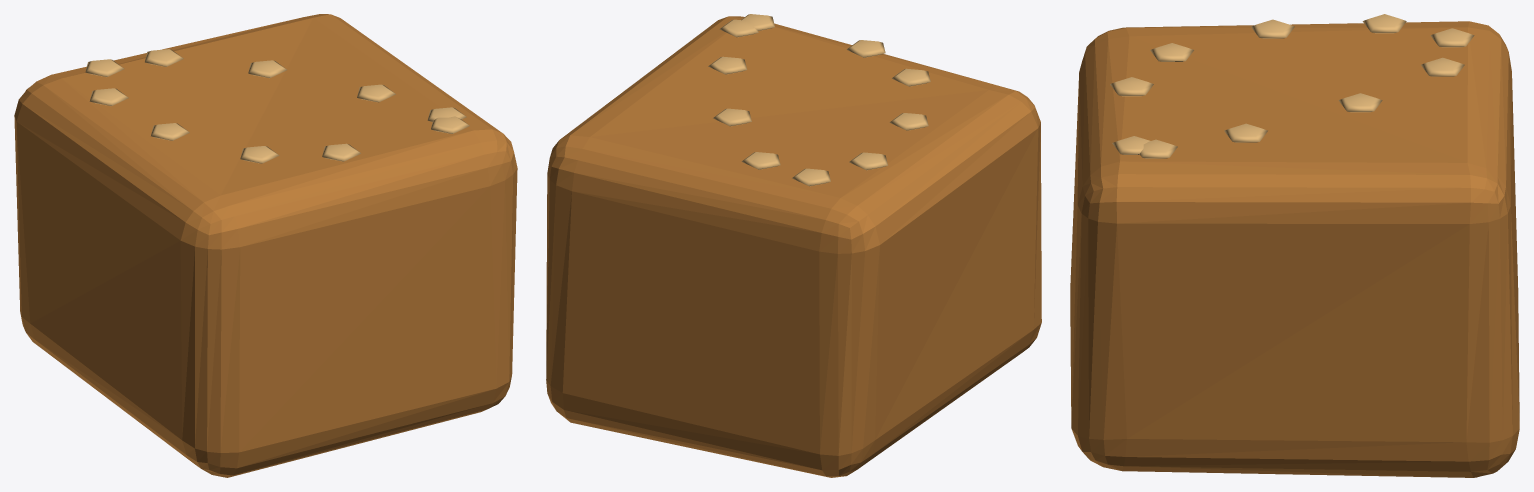
The model's file is croutons.glb.
3 views of the same model, side by side, from view 1: azimuth 30°, elevation 25°; view 2: azimuth 150°, elevation 25°; view 3: azimuth 270°, elevation 25° (orthographic). The views are drawn at different scales.
Size of the model in its own units: 0.1646 by 0.1379 by 0.1735.
